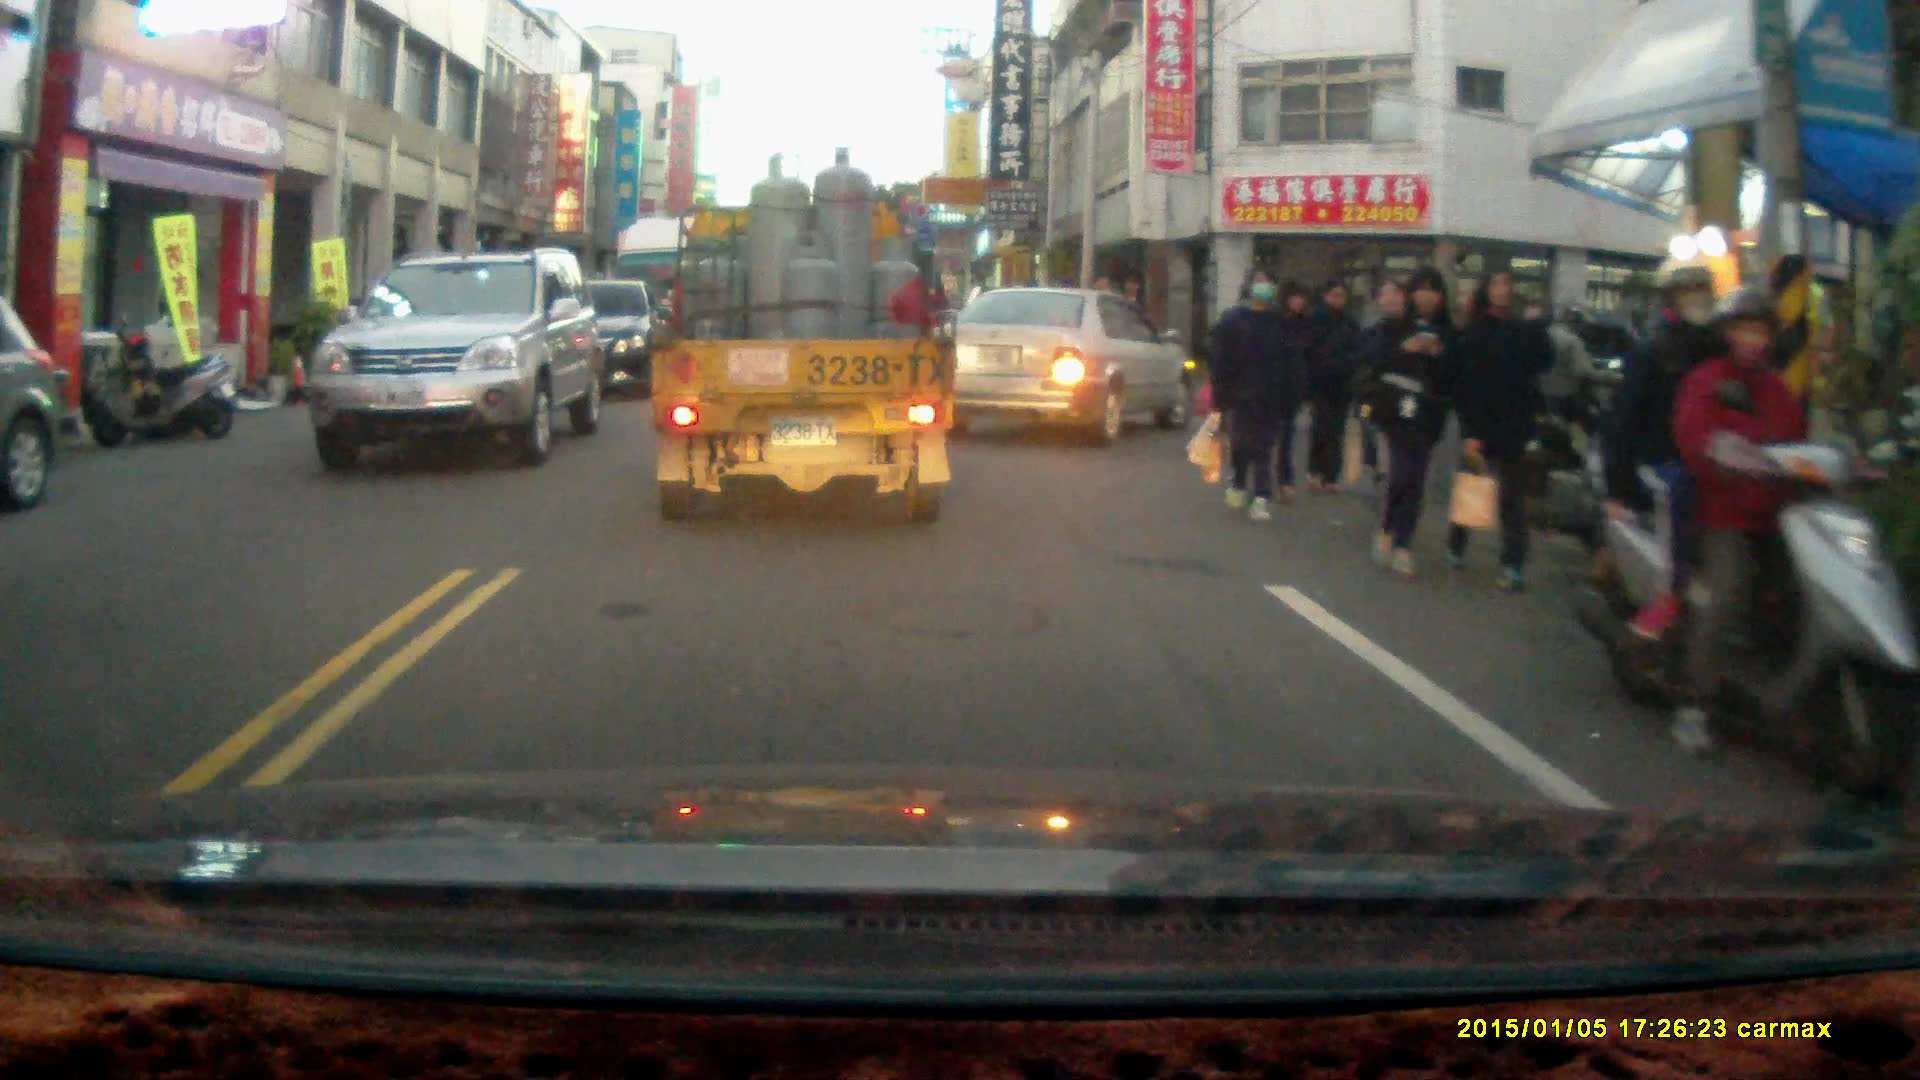pedestrian: (1452, 258, 1560, 583), (1366, 267, 1460, 587), (1210, 267, 1289, 525), (1296, 274, 1369, 494), (1261, 280, 1319, 490)
rider: (1574, 245, 1911, 812), (1517, 305, 1629, 500)
vehicle: (648, 144, 964, 525), (309, 247, 608, 477), (937, 288, 1194, 442), (508, 276, 677, 402), (0, 292, 65, 512)
